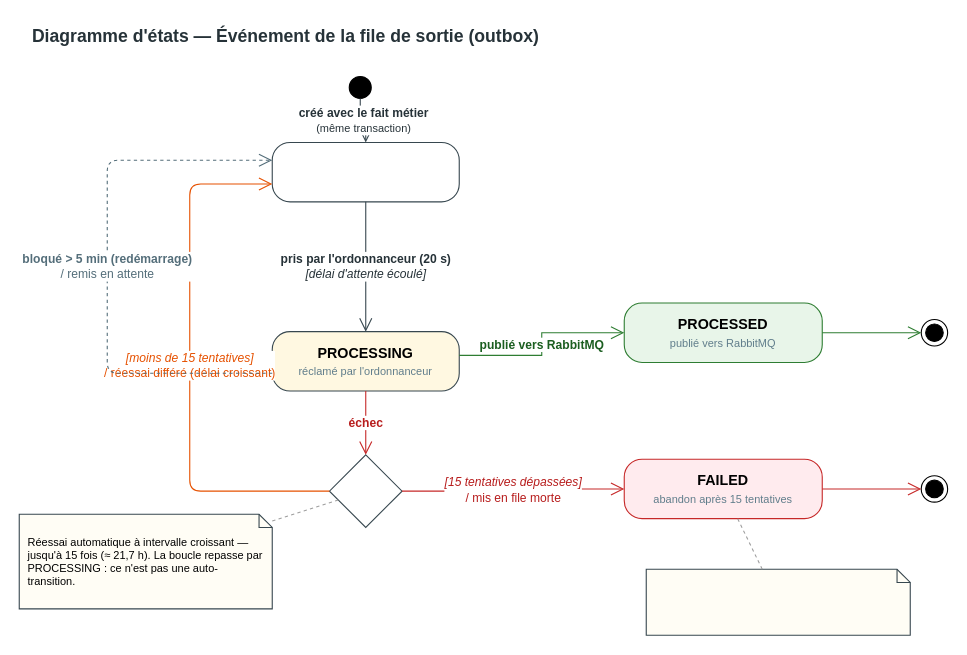
Image size: 967x655. Some labels were removed from this diagram. Each missing label, with the centre of its shape:
"File morte : consultable et rejouable par un administrateur (back-office)." goes at point (777, 601).
"PENDING en attente de drainage" goes at point (365, 171).
